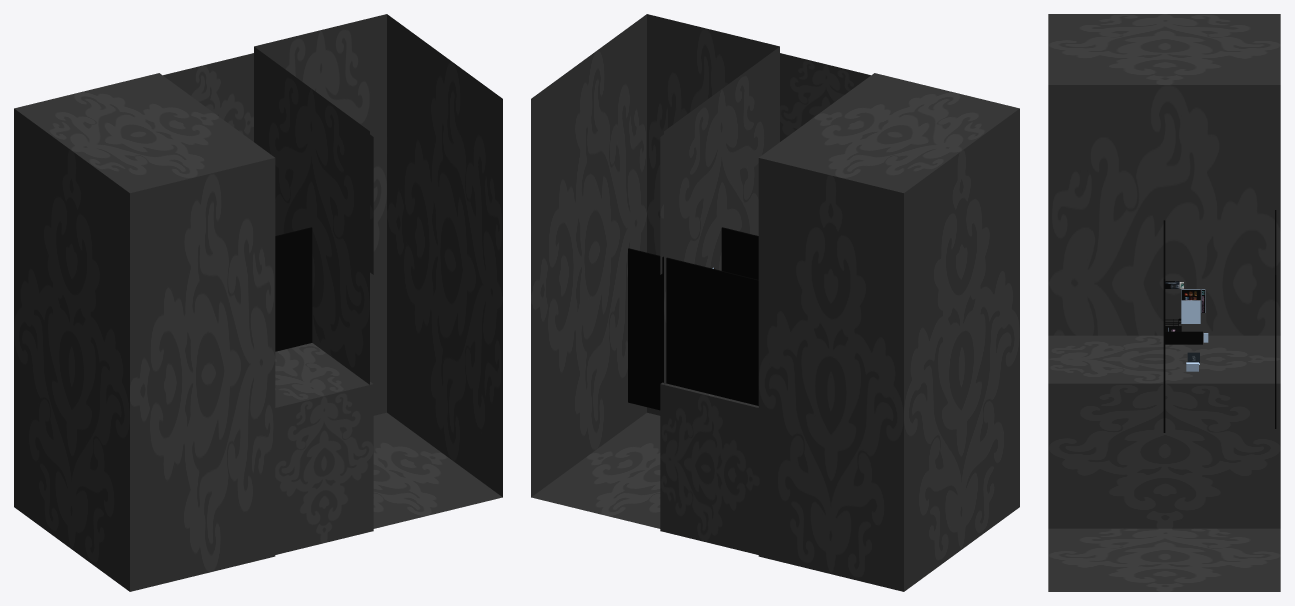
Rendered from caca10.dae.
3 renders of one model, left to right at view 1: azimuth 30°, elevation 25°; view 2: azimuth 150°, elevation 25°; view 3: azimuth 270°, elevation 25°, orthographic.
Visible parts, largest first — view 1: wall01, wall03, wall02, wall04, floor; view 2: wall01, wall03, ceiling, wall02, wall04, floor; view 3: wall01, wall02, wall03, floor, door, bottlesBox, ceiling.
Part boxes in pixels (x1=…): wall01: x1=14, y1=73, x2=275, y2=591; wall03: x1=254, y1=14, x2=502, y2=528; wall02: x1=275, y1=343, x2=373, y2=554; wall04: x1=163, y1=53, x2=373, y2=274; floor: x1=275, y1=227, x2=312, y2=351; wall01: x1=758, y1=73, x2=1019, y2=591; wall03: x1=531, y1=14, x2=779, y2=528; ceiling: x1=628, y1=248, x2=758, y2=410; wall02: x1=660, y1=382, x2=759, y2=555; wall04: x1=660, y1=53, x2=870, y2=274; floor: x1=721, y1=227, x2=758, y2=279; wall01: x1=1048, y1=14, x2=1280, y2=335; wall02: x1=1048, y1=335, x2=1280, y2=528; wall03: x1=1048, y1=528, x2=1280, y2=591; floor: x1=1163, y1=220, x2=1165, y2=432; door: x1=1165, y1=331, x2=1202, y2=344; bottlesBox: x1=1181, y1=300, x2=1200, y2=323; ceiling: x1=1275, y1=210, x2=1276, y2=428.
Size of the model in its own units: 61.33 by 33.01 by 63.19.
31 materials, 14 textured.
